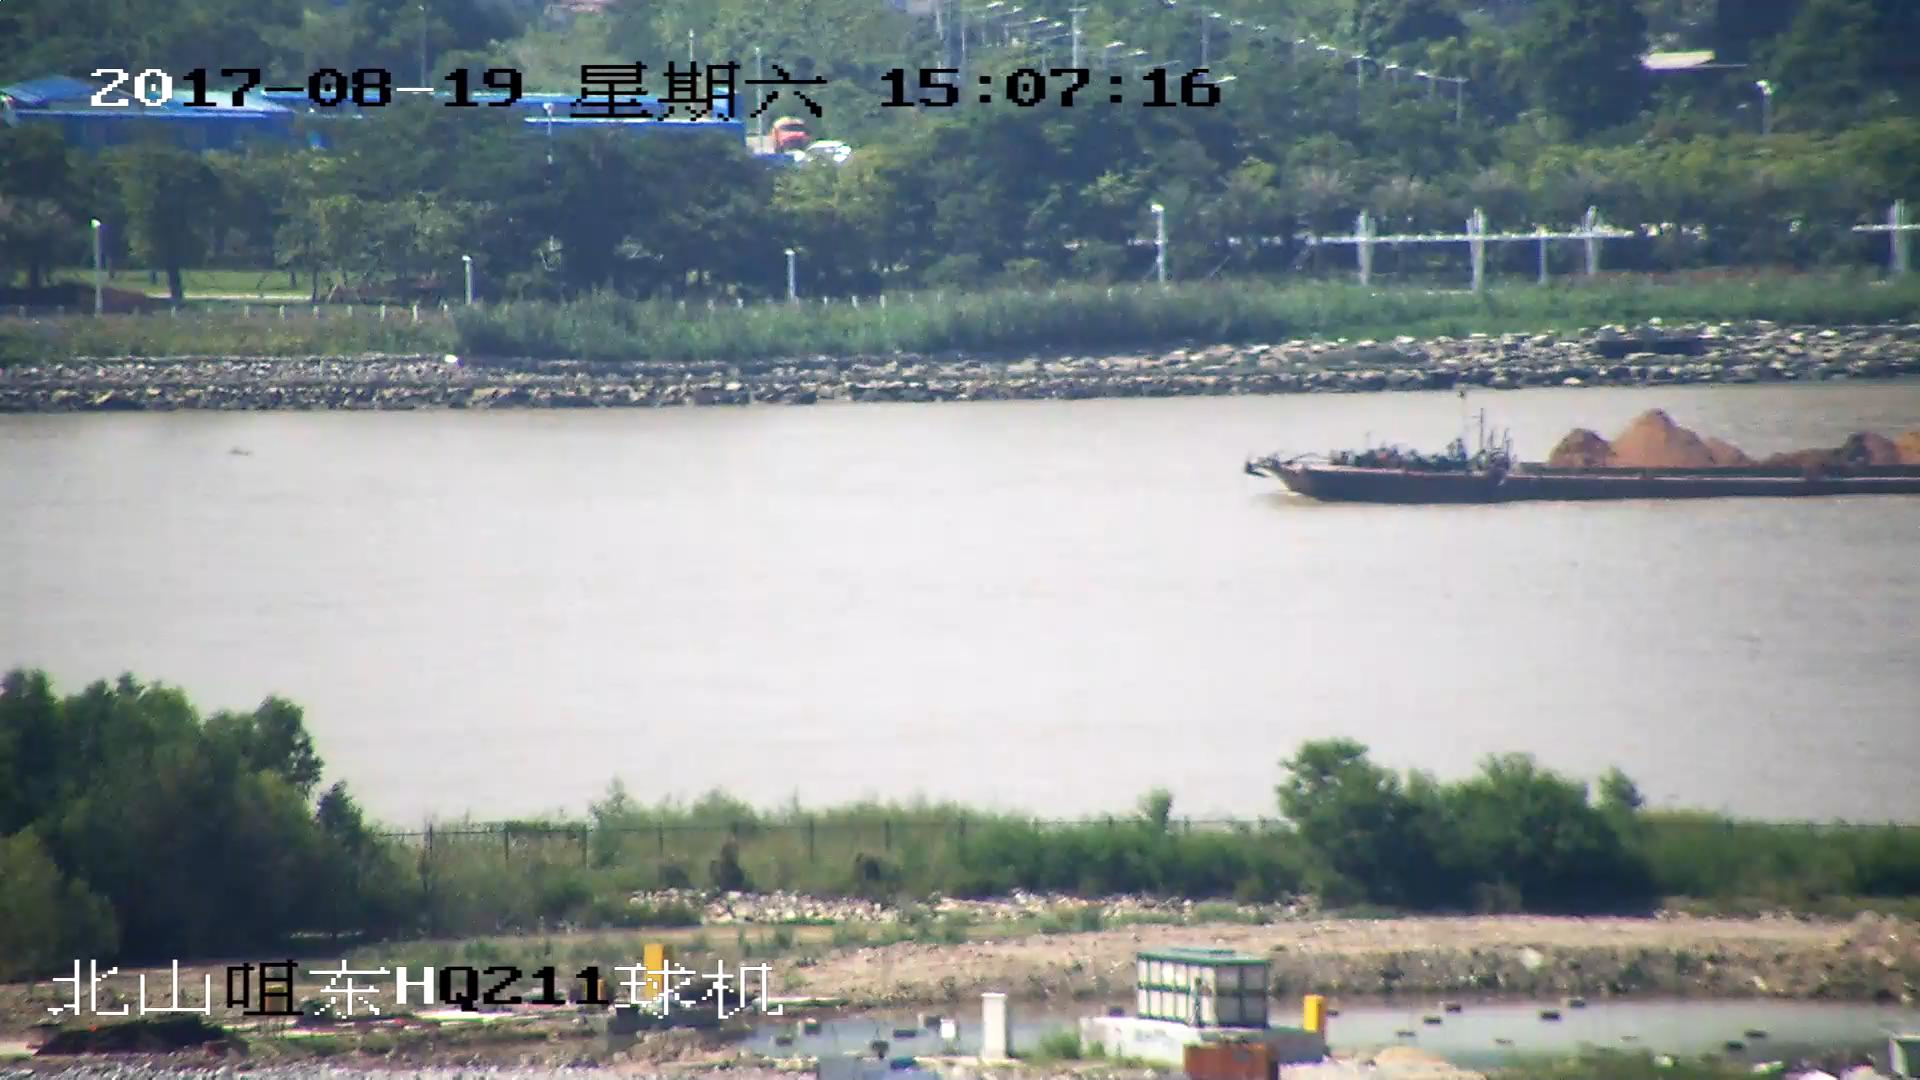ore carrier: (1242, 405, 1920, 509)
